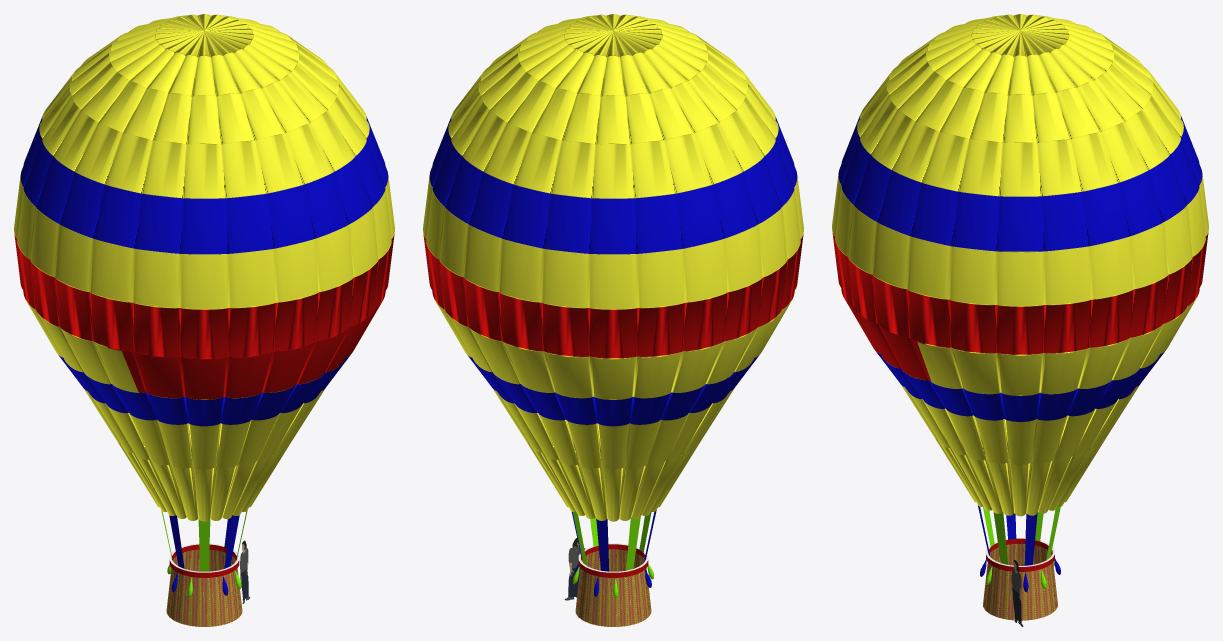
Rendered from balloon_hot_air.obj.
The picture shows the model from 3 angles, left to right: view 1: azimuth 30°, elevation 25°; view 2: azimuth 150°, elevation 25°; view 3: azimuth 270°, elevation 25°; orthographic projection.
Parts seen in each view (by area): view 1: Mesh2 hot_air_ballon1 Model; view 2: Mesh2 hot_air_ballon1 Model, Mesh1 Susan1 hot_air_ballon1 Model; view 3: Mesh2 hot_air_ballon1 Model, Mesh1 Susan1 hot_air_ballon1 Model.
Part boxes in pixels (x1,y1,x2,y2): Mesh2 hot_air_ballon1 Model: [14, 14, 394, 626]; Mesh2 hot_air_ballon1 Model: [423, 14, 803, 626]; Mesh1 Susan1 hot_air_ballon1 Model: [564, 538, 585, 600]; Mesh2 hot_air_ballon1 Model: [832, 14, 1208, 620]; Mesh1 Susan1 hot_air_ballon1 Model: [1011, 560, 1023, 626].
Size of the model in its own units: 366 by 616 by 366.
Materials: 13 (1 with a texture image).
